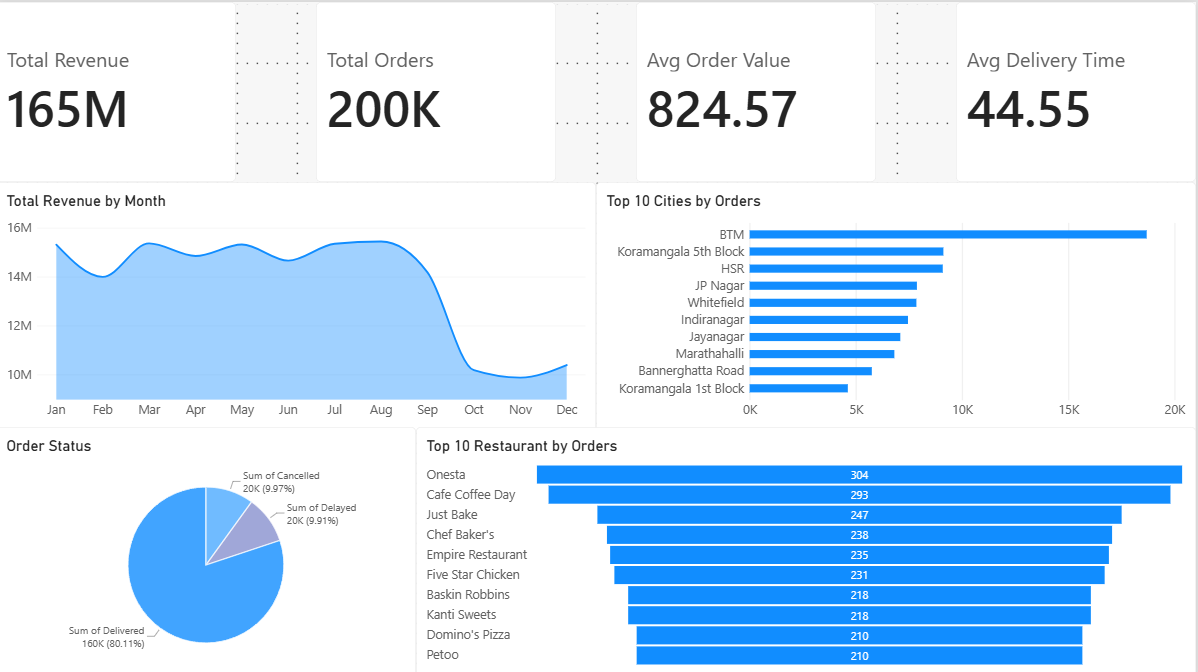

This screenshot's page, from the dashboard's own definition file:
{"tool":"powerbi","page":{"name":"Executive Overview","canvas":[1920,1080],"ordinal":0},"visuals":[{"type":"cardVisual","fields":{"Data":["Orders.Total Revenue"]},"box":[0,0,384,288],"z":0},{"type":"cardVisual","fields":{"Data":["Orders.Total Orders"]},"box":[512,0,384,288],"z":1000},{"type":"cardVisual","fields":{"Data":["Orders.Avg Order Value"]},"box":[1024,0,384,288],"z":2000},{"type":"cardVisual","fields":{"Data":["Orders.Avg Delivery Time"]},"box":[1536,0,384,288],"z":3000},{"type":"areaChart","title":"Total Revenue by Month","fields":{"Category":["DateTable.MonthName"],"Y":["Orders.Total Revenue"]},"box":[0,288,960,400],"z":5000},{"type":"barChart","title":"Top 10 Cities by Orders","fields":{"Category":["Customers.FilterCity"],"Y":["Orders.Total Orders"]},"box":[960,288,960,400],"z":6000},{"type":"pieChart","title":"Order Status","fields":{"Y":["Sum(Orders.Cancelled)","Sum(Orders.Delayed)","Sum(Orders.Delivered)"]},"box":[0,680,672,400],"z":7000},{"type":"funnel","title":"Top 10 Restaurant by Orders","fields":{"Category":["Restaurants.name"],"Y":["Orders.Total Orders"]},"box":[672,680,1248,400],"z":8000}]}

Visuals, with their boxes in screenshot pixels (x1, y1, x2, y2), scaled from the page's 1920x1080 canvas onto the 1198x672 screenshot:
cardVisual - Orders.Total Revenue: (left=0, top=0, right=240, bottom=179)
cardVisual - Orders.Total Orders: (left=319, top=0, right=559, bottom=179)
cardVisual - Orders.Avg Order Value: (left=639, top=0, right=879, bottom=179)
cardVisual - Orders.Avg Delivery Time: (left=958, top=0, right=1197, bottom=179)
"Total Revenue by Month" areaChart: (left=0, top=179, right=599, bottom=428)
"Top 10 Cities by Orders" barChart: (left=599, top=179, right=1197, bottom=428)
"Order Status" pieChart: (left=0, top=423, right=419, bottom=671)
"Top 10 Restaurant by Orders" funnel: (left=419, top=423, right=1197, bottom=671)
